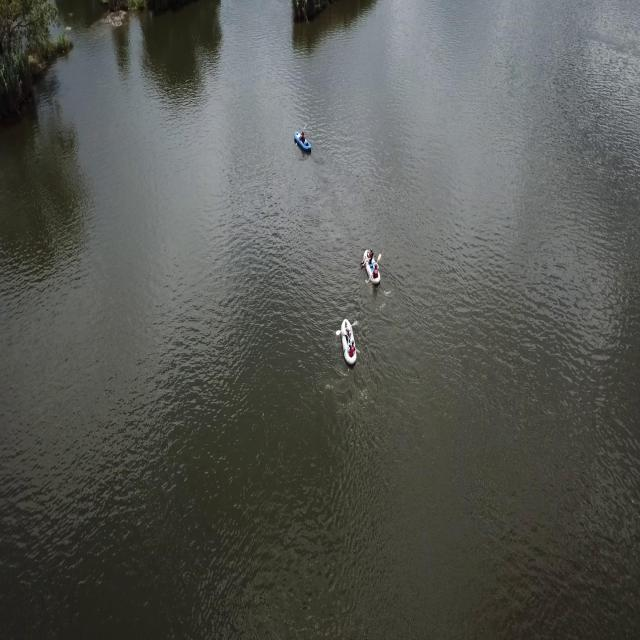kayak: (335, 311, 362, 374), (359, 246, 385, 292), (294, 127, 314, 160)
